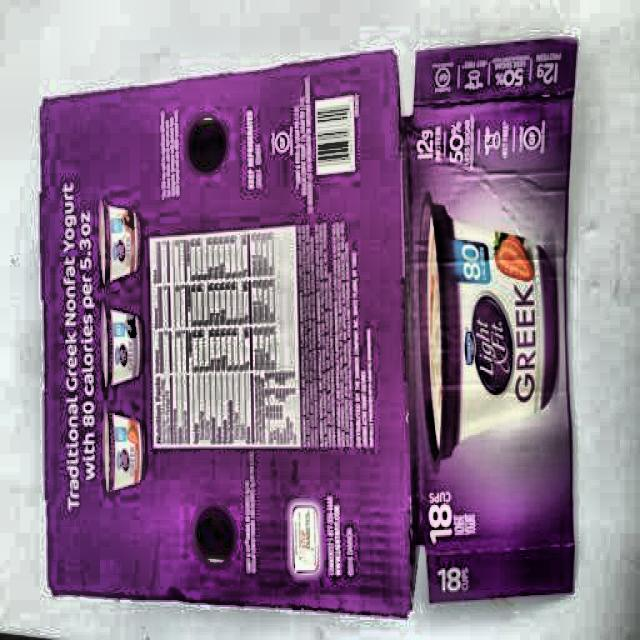cardboard: (40, 34, 576, 616)
